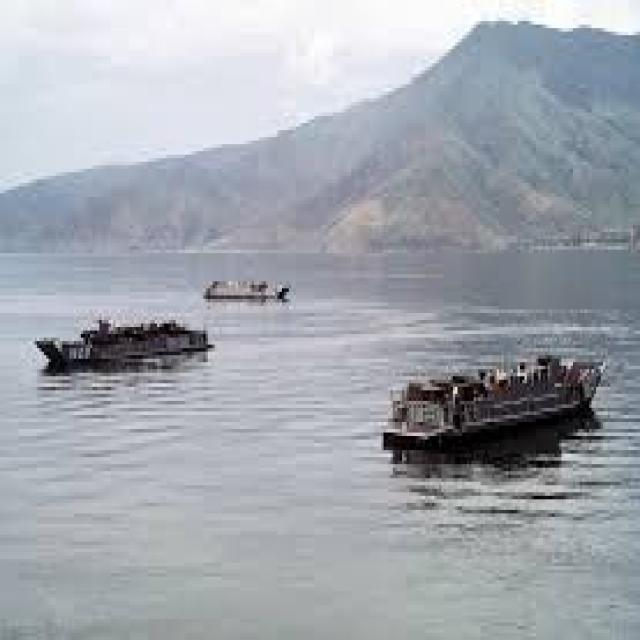fishing boat: (378, 325, 632, 465), (39, 307, 201, 377), (200, 233, 294, 303)
